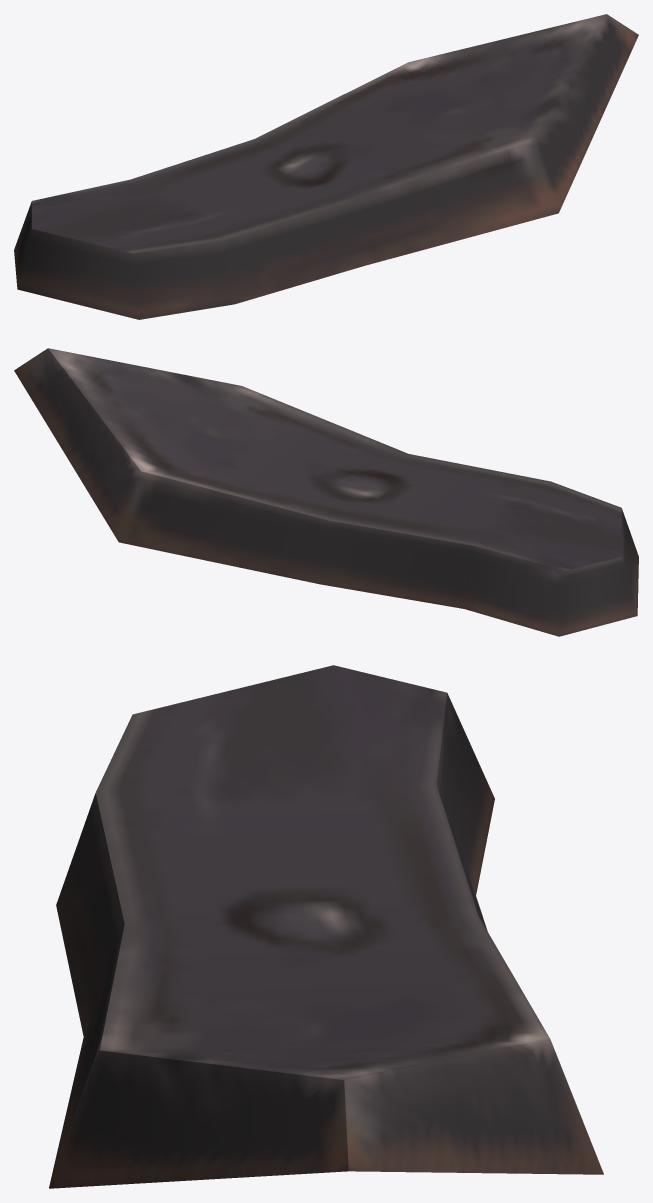
File: cs_yanjiangchengbao_tieqiao_005.FBX
3 views of the same model, one above another, from view 1: azimuth 30°, elevation 25°; view 2: azimuth 150°, elevation 25°; view 3: azimuth 270°, elevation 25° (orthographic). The views are drawn at different scales.
Visible parts, largest first — view 1: cs_yanjiangchengbao_tieqiao_005; view 2: cs_yanjiangchengbao_tieqiao_005; view 3: cs_yanjiangchengbao_tieqiao_005.
Boxes of the visible parts, left/top/right/bottom form: cs_yanjiangchengbao_tieqiao_005: left=14, top=14, right=638, bottom=319; cs_yanjiangchengbao_tieqiao_005: left=14, top=348, right=638, bottom=636; cs_yanjiangchengbao_tieqiao_005: left=49, top=665, right=603, bottom=1188.
Bounding box in the file's own units: 36.71 × 14.26 × 7.2.
